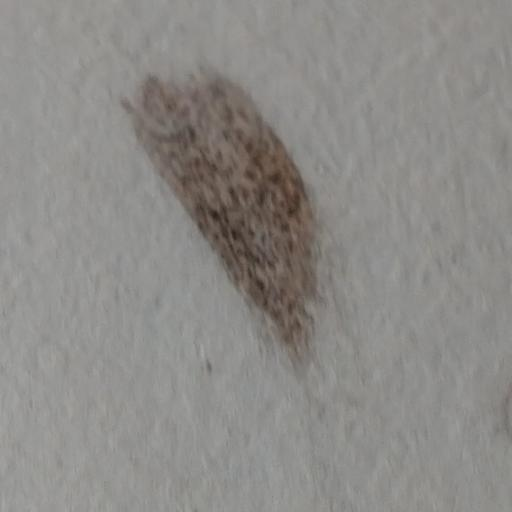stain: (98, 40, 371, 383)
